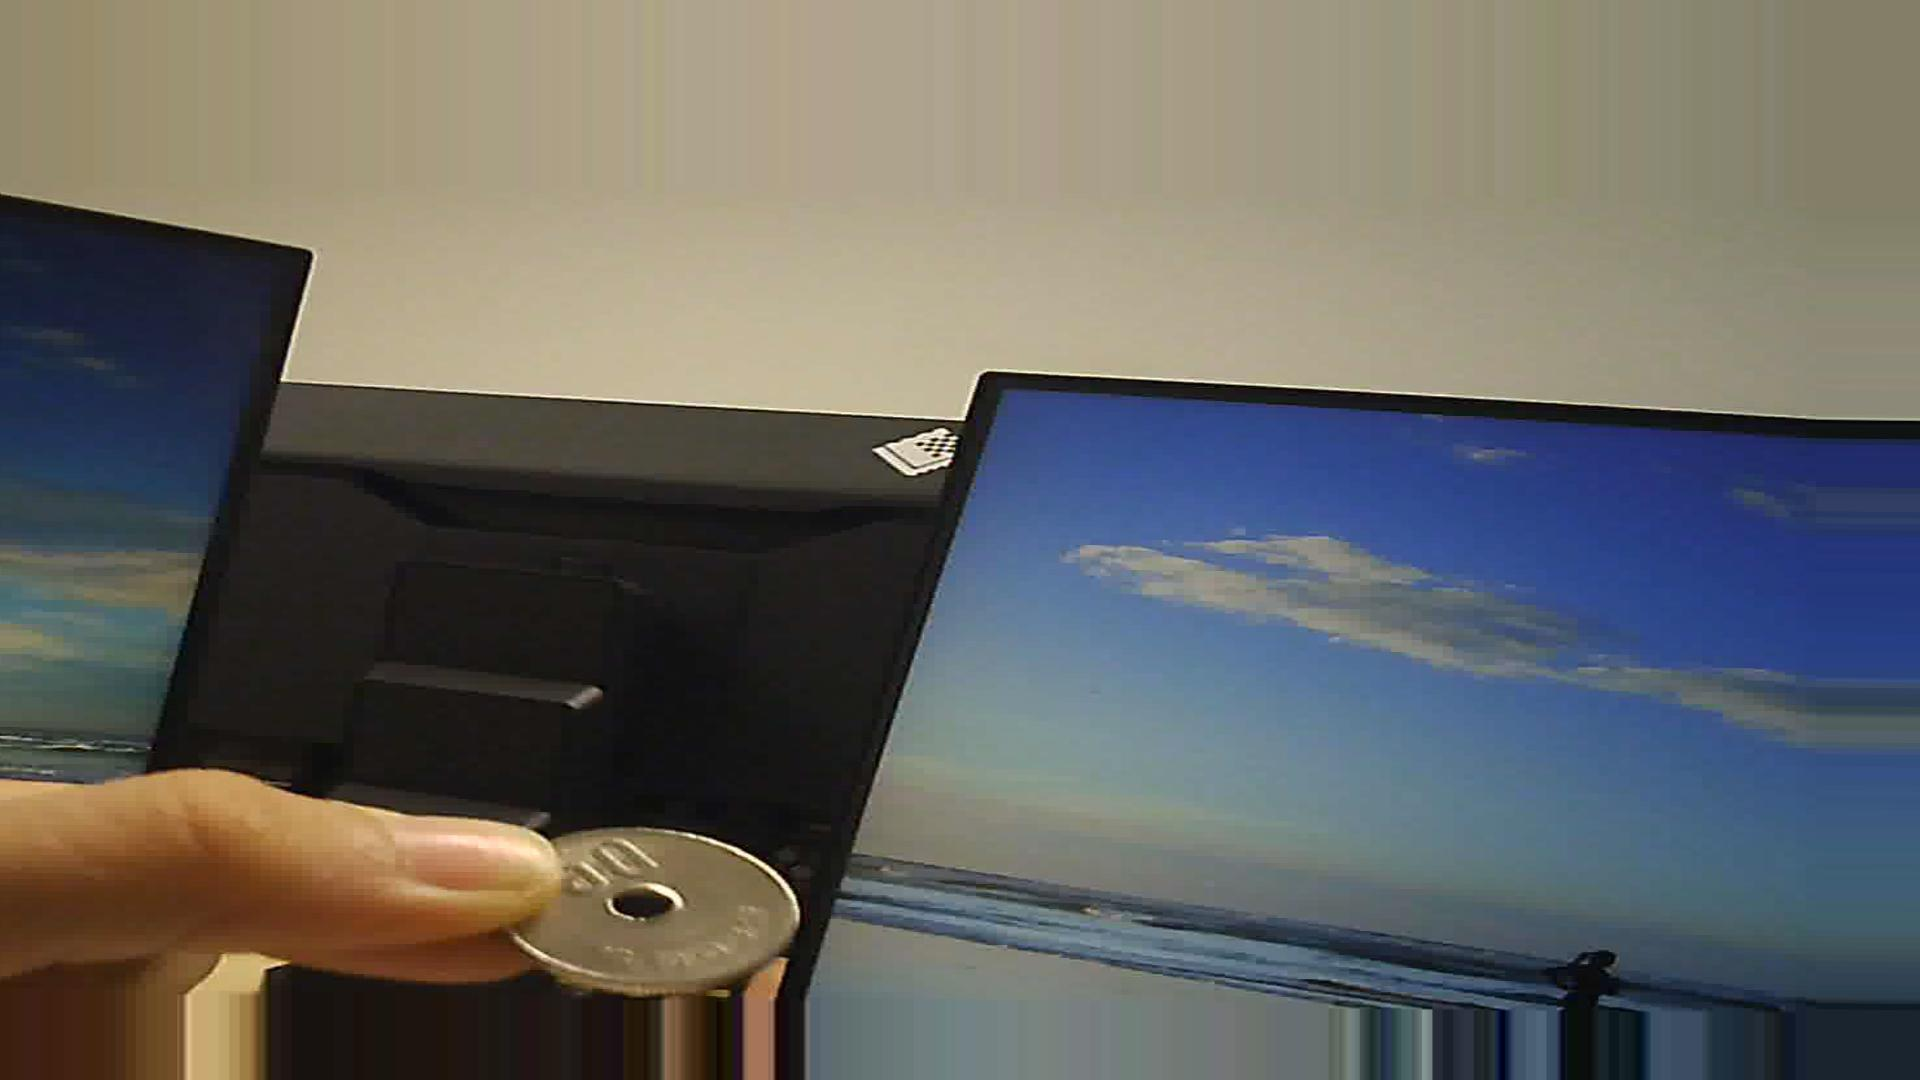50 Yen: (484, 810, 796, 984)
